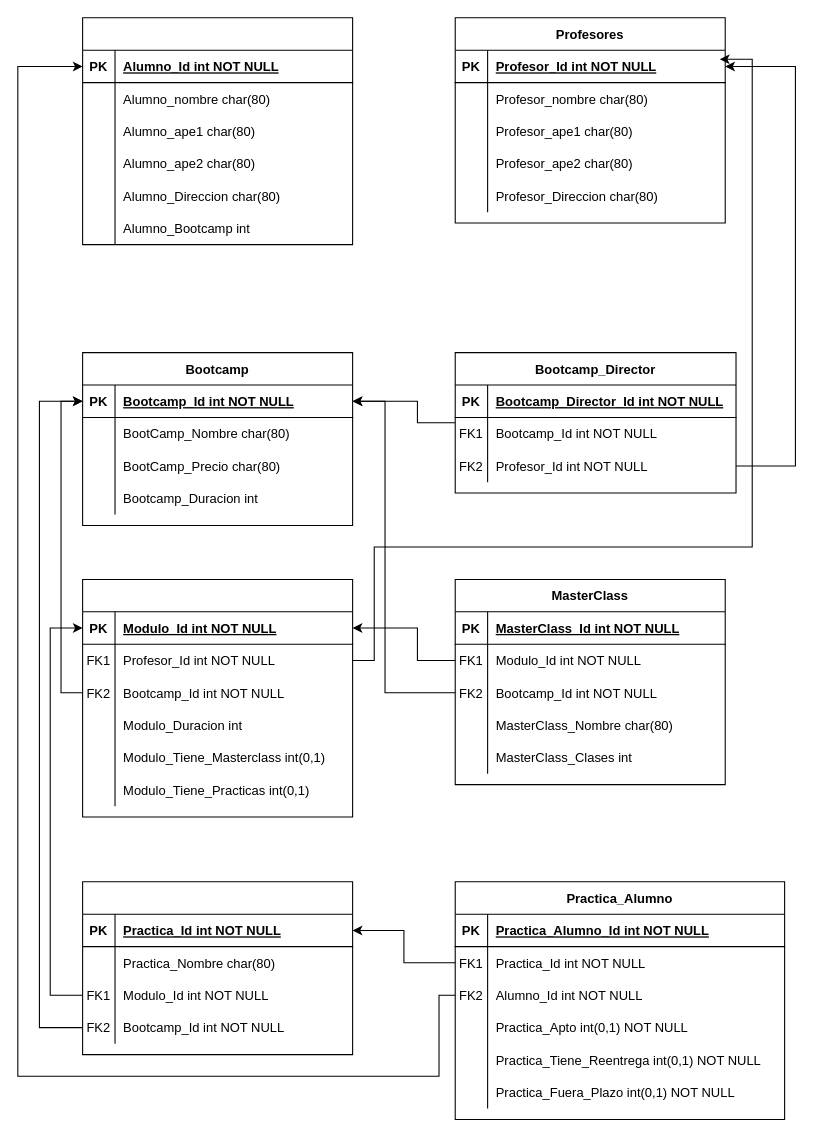
Some shapes in this 813 by 1137 pixel diagram are drawn without their labels. Here are the shapes that lost their labels. From the top down, the box of each, then its label:
(82, 17, 353, 245): Alumnos
(82, 578, 353, 817): Modulos
(82, 881, 353, 1055): Practicas
